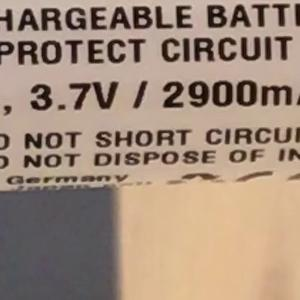3.7V: (20, 71, 127, 121)
